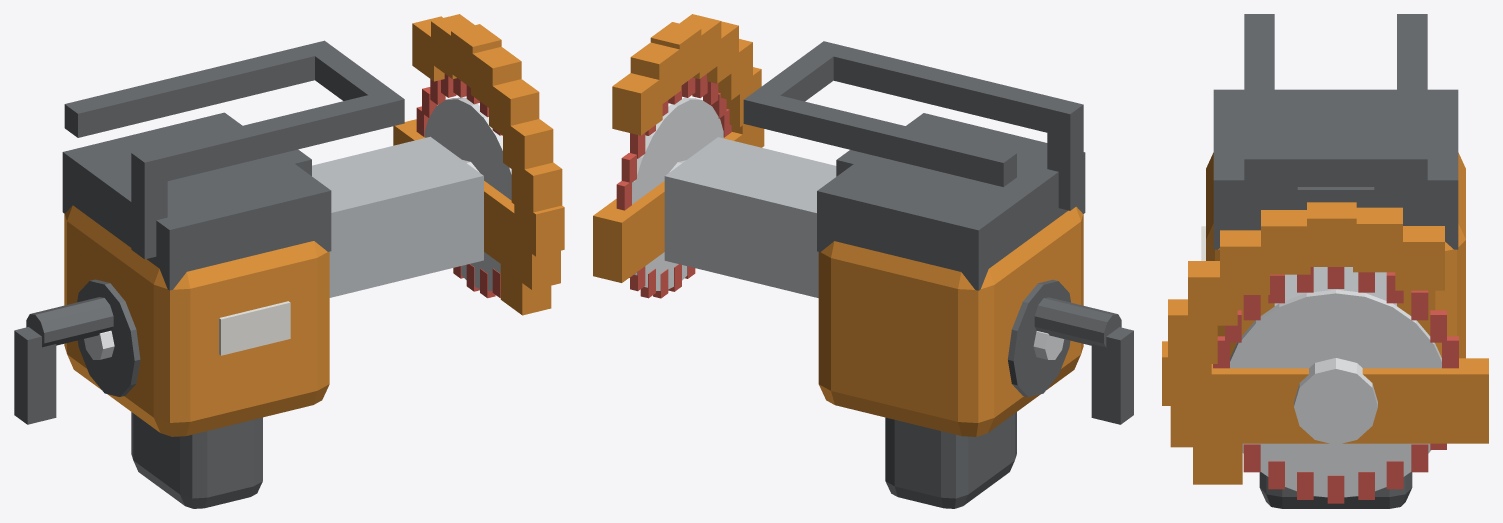
Rendered from tool-hire-depot-and-plant-yard-tool-hire-depot-and-pla-6595fa87__35311.glb.
3 renders of one model, left to right at view 1: azimuth 30°, elevation 25°; view 2: azimuth 150°, elevation 25°; view 3: azimuth 270°, elevation 25°, orthographic. The views are drawn at different scales.
Parts seen in each view (by area): view 1: tool-hire-depot-and-plant-yard-petrol-disc-cutter, blade-spin/steel, blade-spin/red; view 2: tool-hire-depot-and-plant-yard-petrol-disc-cutter, blade-spin/steel, blade-spin/red; view 3: tool-hire-depot-and-plant-yard-petrol-disc-cutter, blade-spin/steel, blade-spin/red.
Boxes of the visible parts, x1,y1,x2,y2 form: tool-hire-depot-and-plant-yard-petrol-disc-cutter: [14, 14, 564, 508]; blade-spin/steel: [424, 97, 511, 290]; blade-spin/red: [416, 74, 501, 298]; tool-hire-depot-and-plant-yard-petrol-disc-cutter: [593, 14, 1133, 508]; blade-spin/steel: [632, 98, 723, 290]; blade-spin/red: [616, 74, 731, 298]; tool-hire-depot-and-plant-yard-petrol-disc-cutter: [1162, 14, 1488, 508]; blade-spin/steel: [1230, 289, 1441, 497]; blade-spin/red: [1213, 267, 1458, 503].
Bounding box in the file's own units: 0.825 × 0.6349 × 0.4274.
